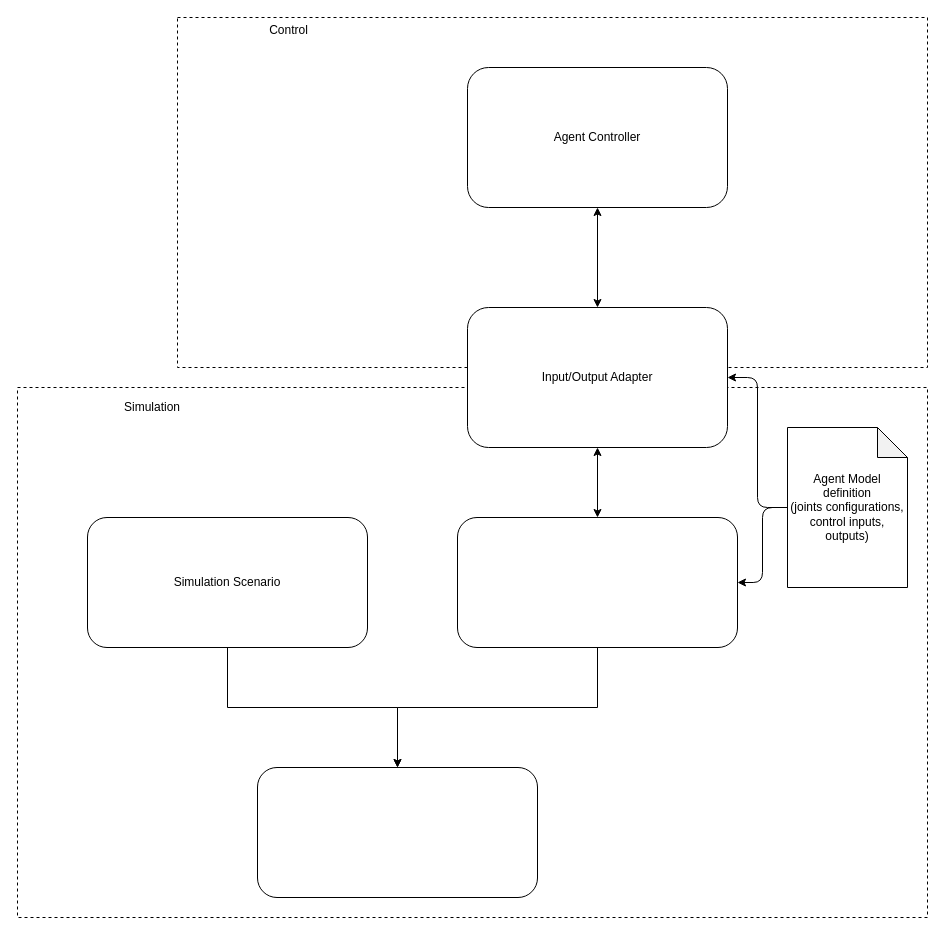
Some shapes in this 945 by 935 pixel diagram are drawn without their labels. The centre of each missing label's shape, as x and y in pixels:
"Simulation Agent" goes at pixel 597 582.
"Simulation Runner" goes at pixel 397 832.
